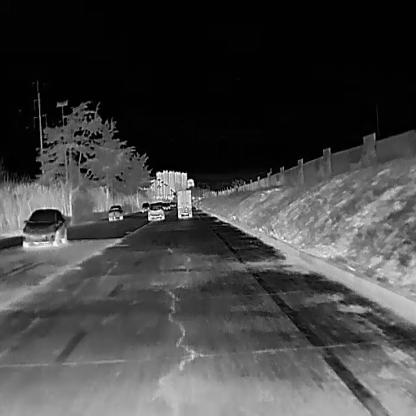car: (21, 208, 67, 248), (146, 201, 164, 221), (107, 203, 123, 221), (141, 202, 150, 212)
truck: (176, 188, 192, 218)
